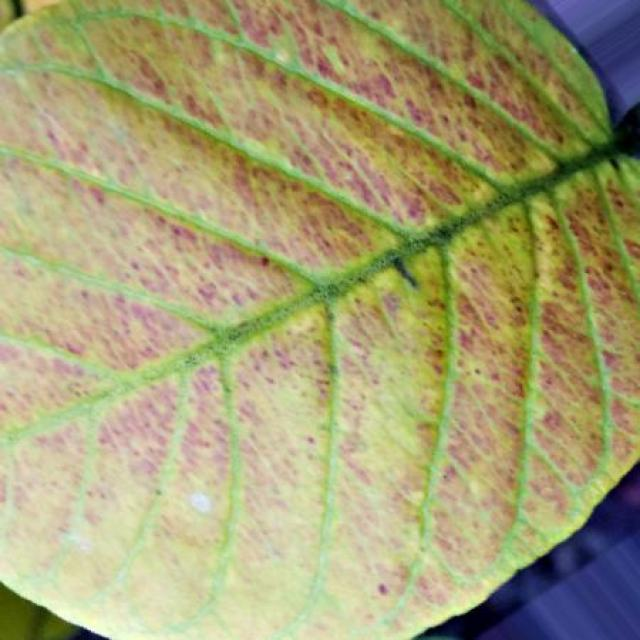Red Rust: (0, 0, 640, 640)
